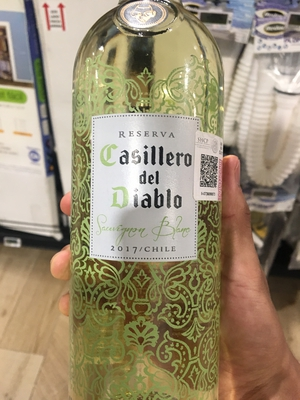casillero del diablo sauvignon blanc: (69, 11, 233, 400)
